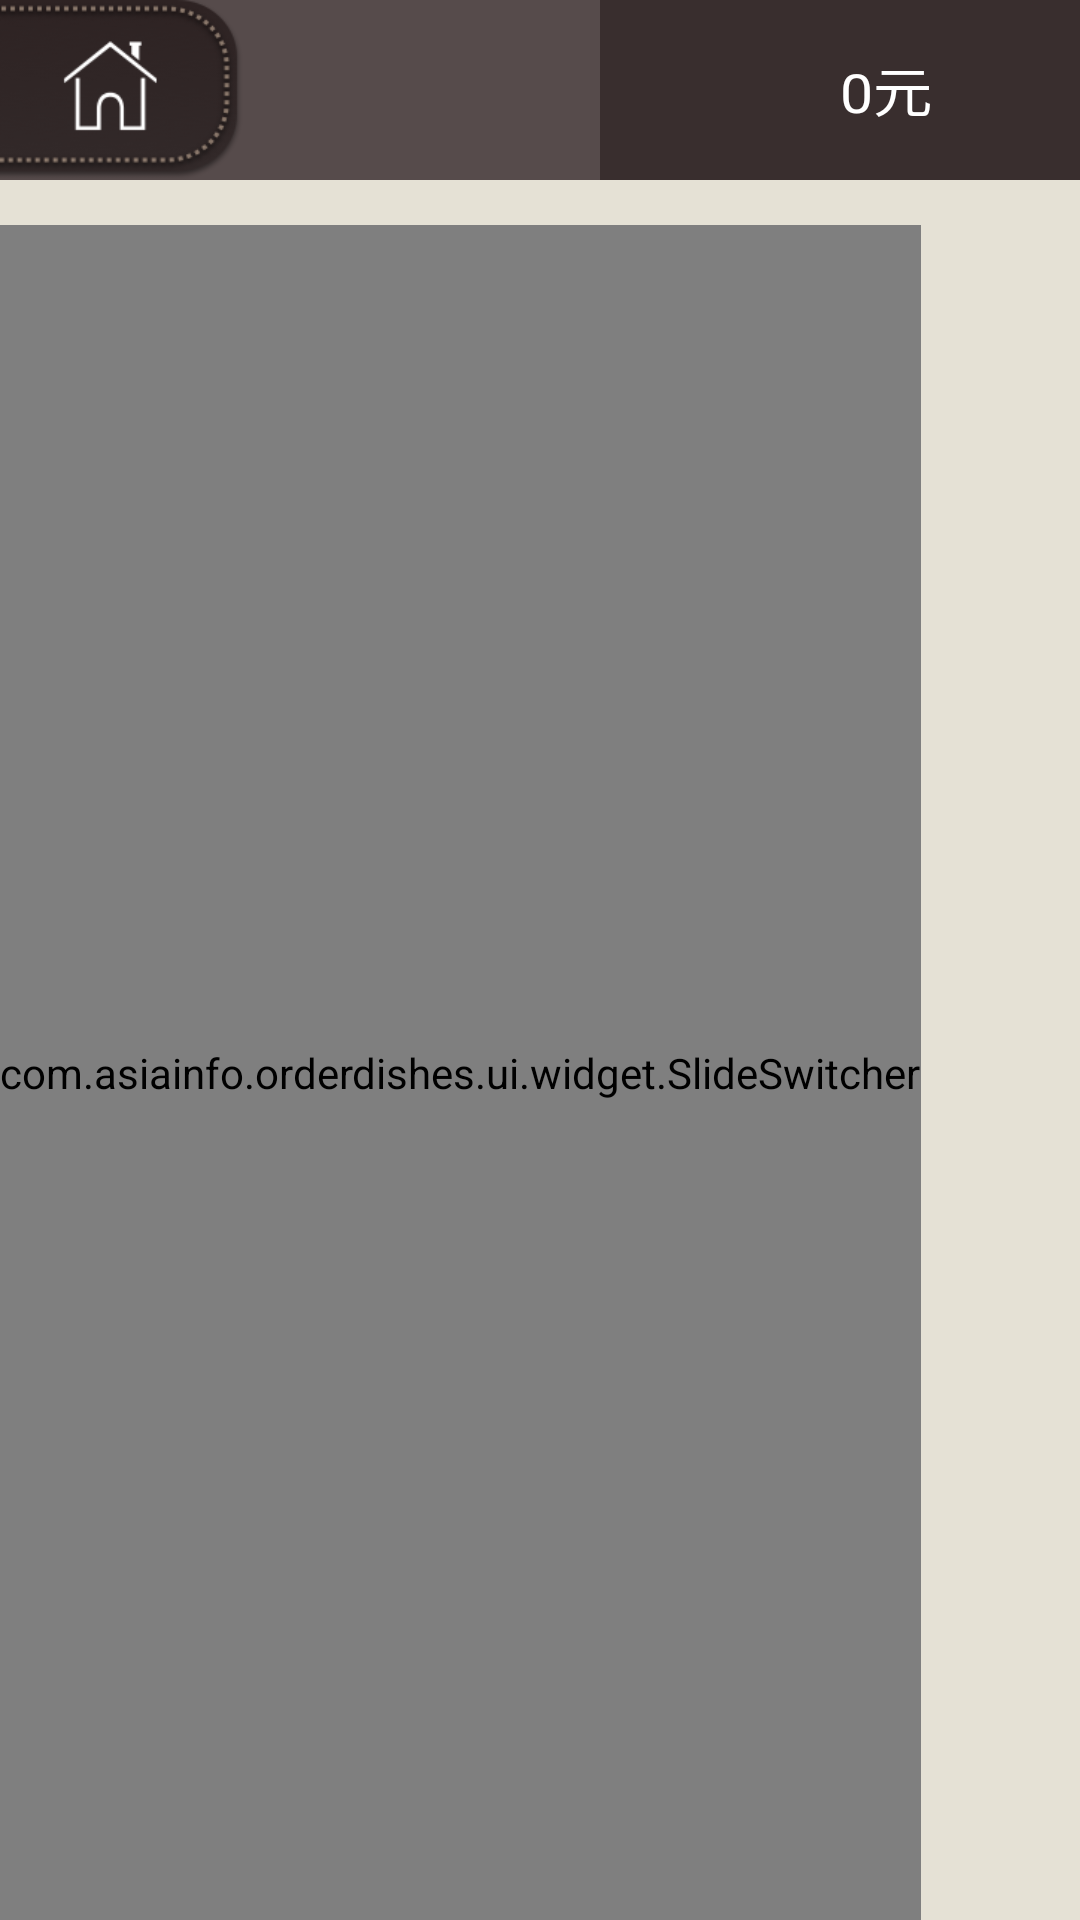

Icons on this 1080px x 1920px Android screen, each with the point to tap as [x,y]:
home back: [121,90]
